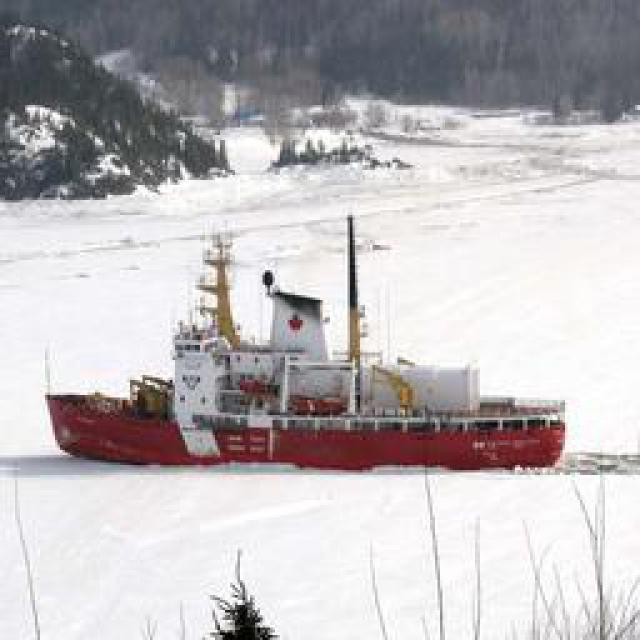Ship: (43, 350, 571, 475)
